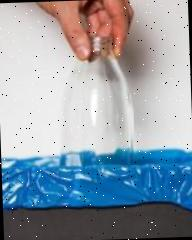glass: (59, 34, 136, 168)
